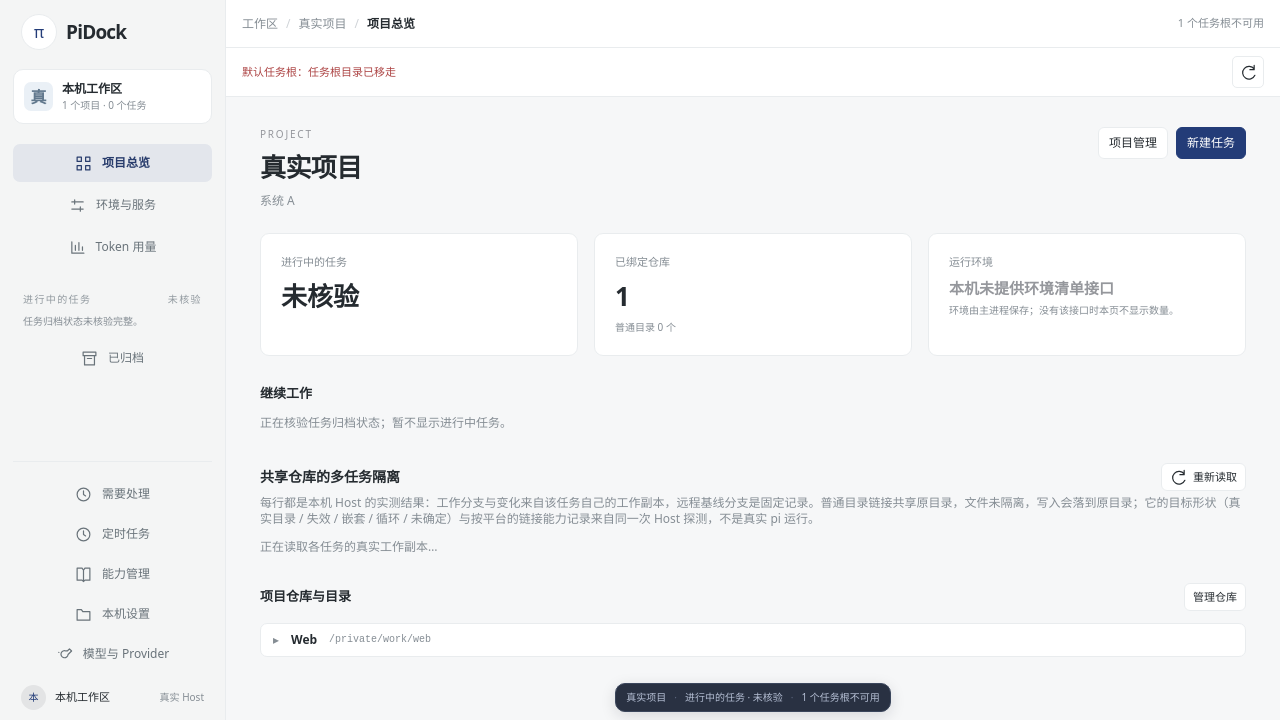
Test: Desktop production data › rereads an externally restored missing root from overview without import or changing identities
Click the button named "重试读取默认任务根": (1248, 72) [1232,56,1264,88]
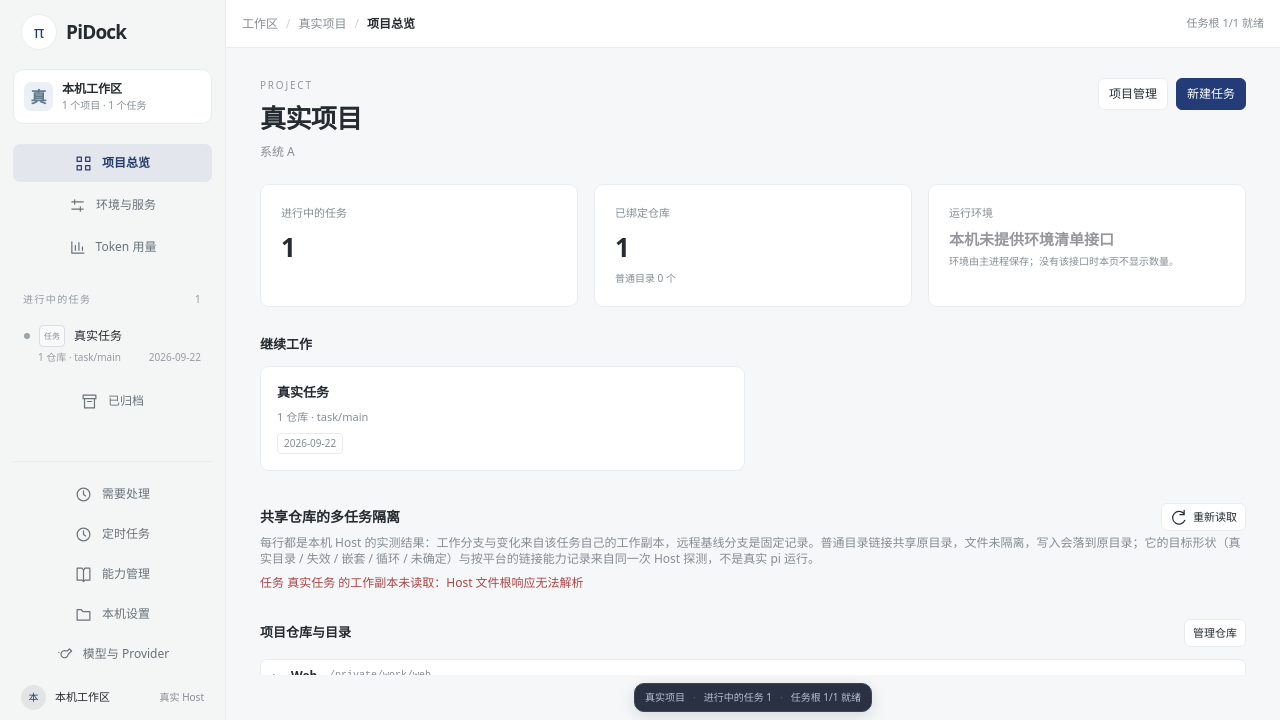
Expected: the 1st text "真实项目" is shown, [298,14,346,32]
Result: the button "重试读取默认任务根" is gone
Result: the text with test id "overview-task-count" reads "1" at [281,228,296,264]
Click the button "项目管理": (1133, 94) [1098,78,1168,110]
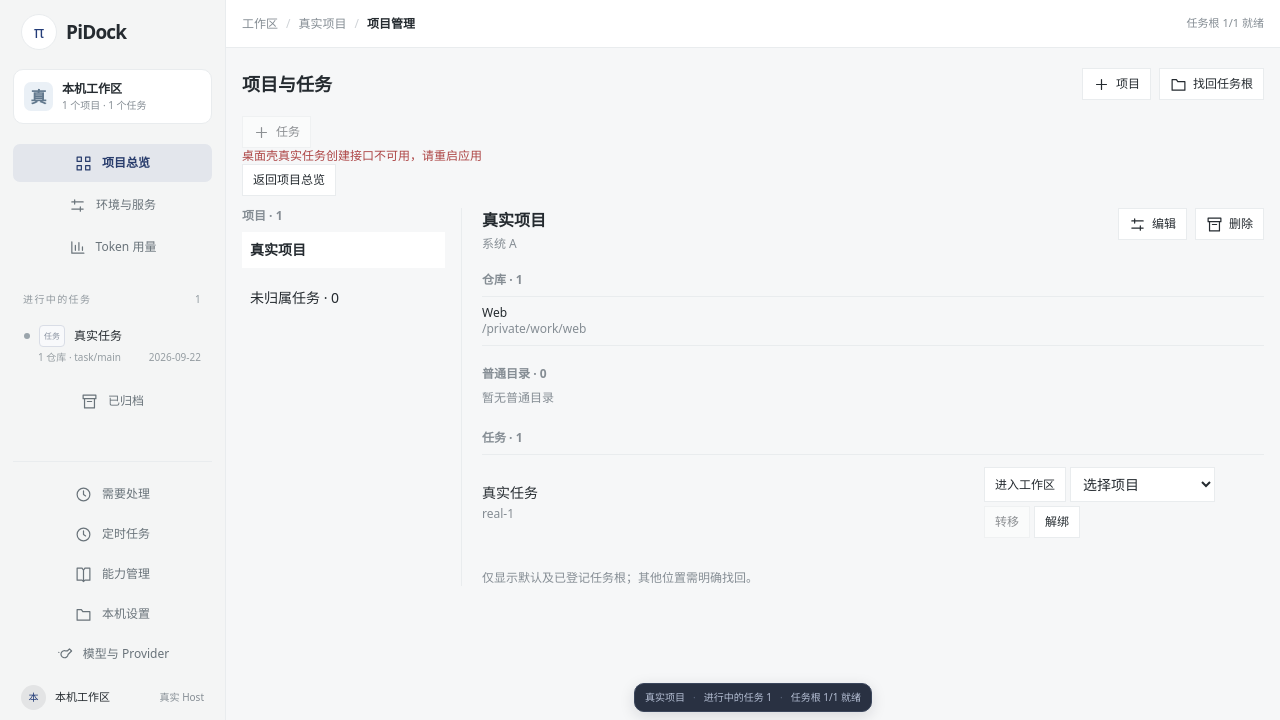
Click the button "编辑": (1152, 224) [1118,208,1187,240]
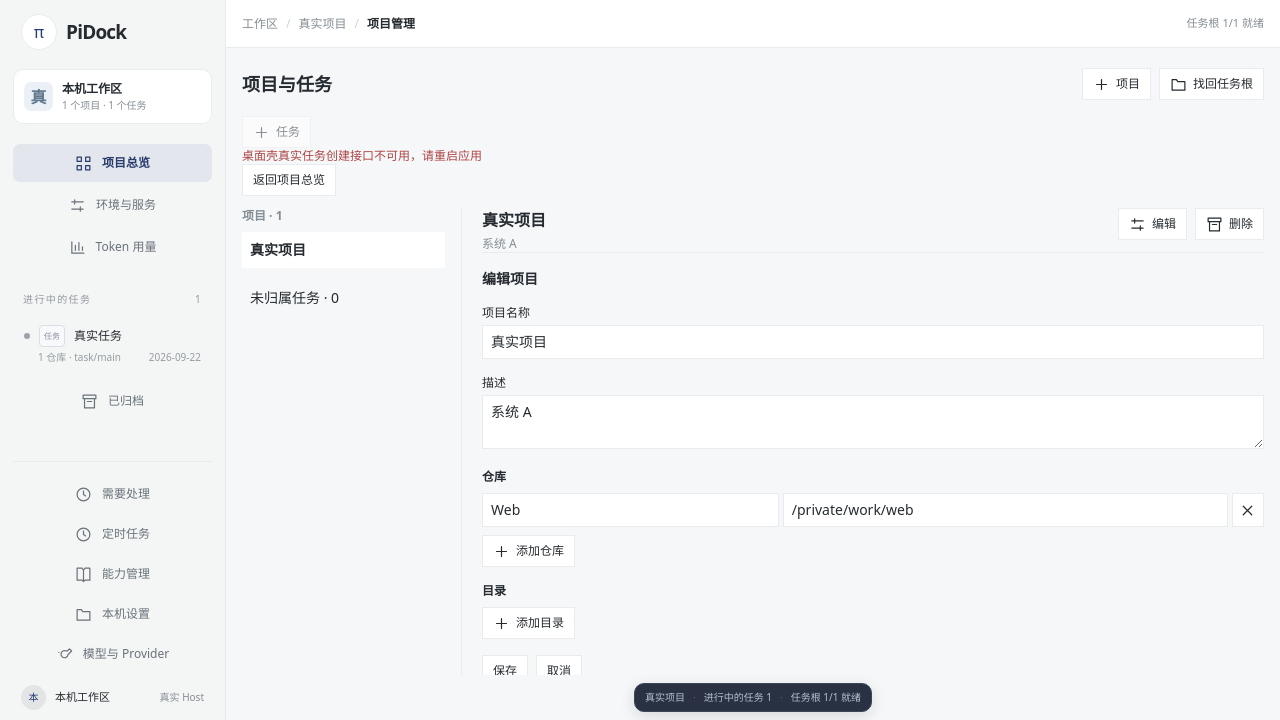
Result: the button "真实项目" is shown at [242,232,445,268]
Result: the field named "仓库路径 1" holds "/private/work/web" at [783,493,1228,527]
